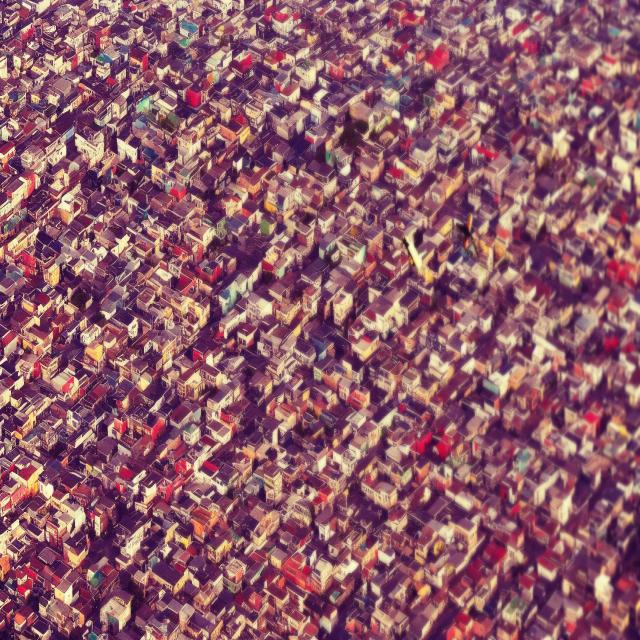airplane: (456, 212, 479, 256), (401, 235, 424, 275)
